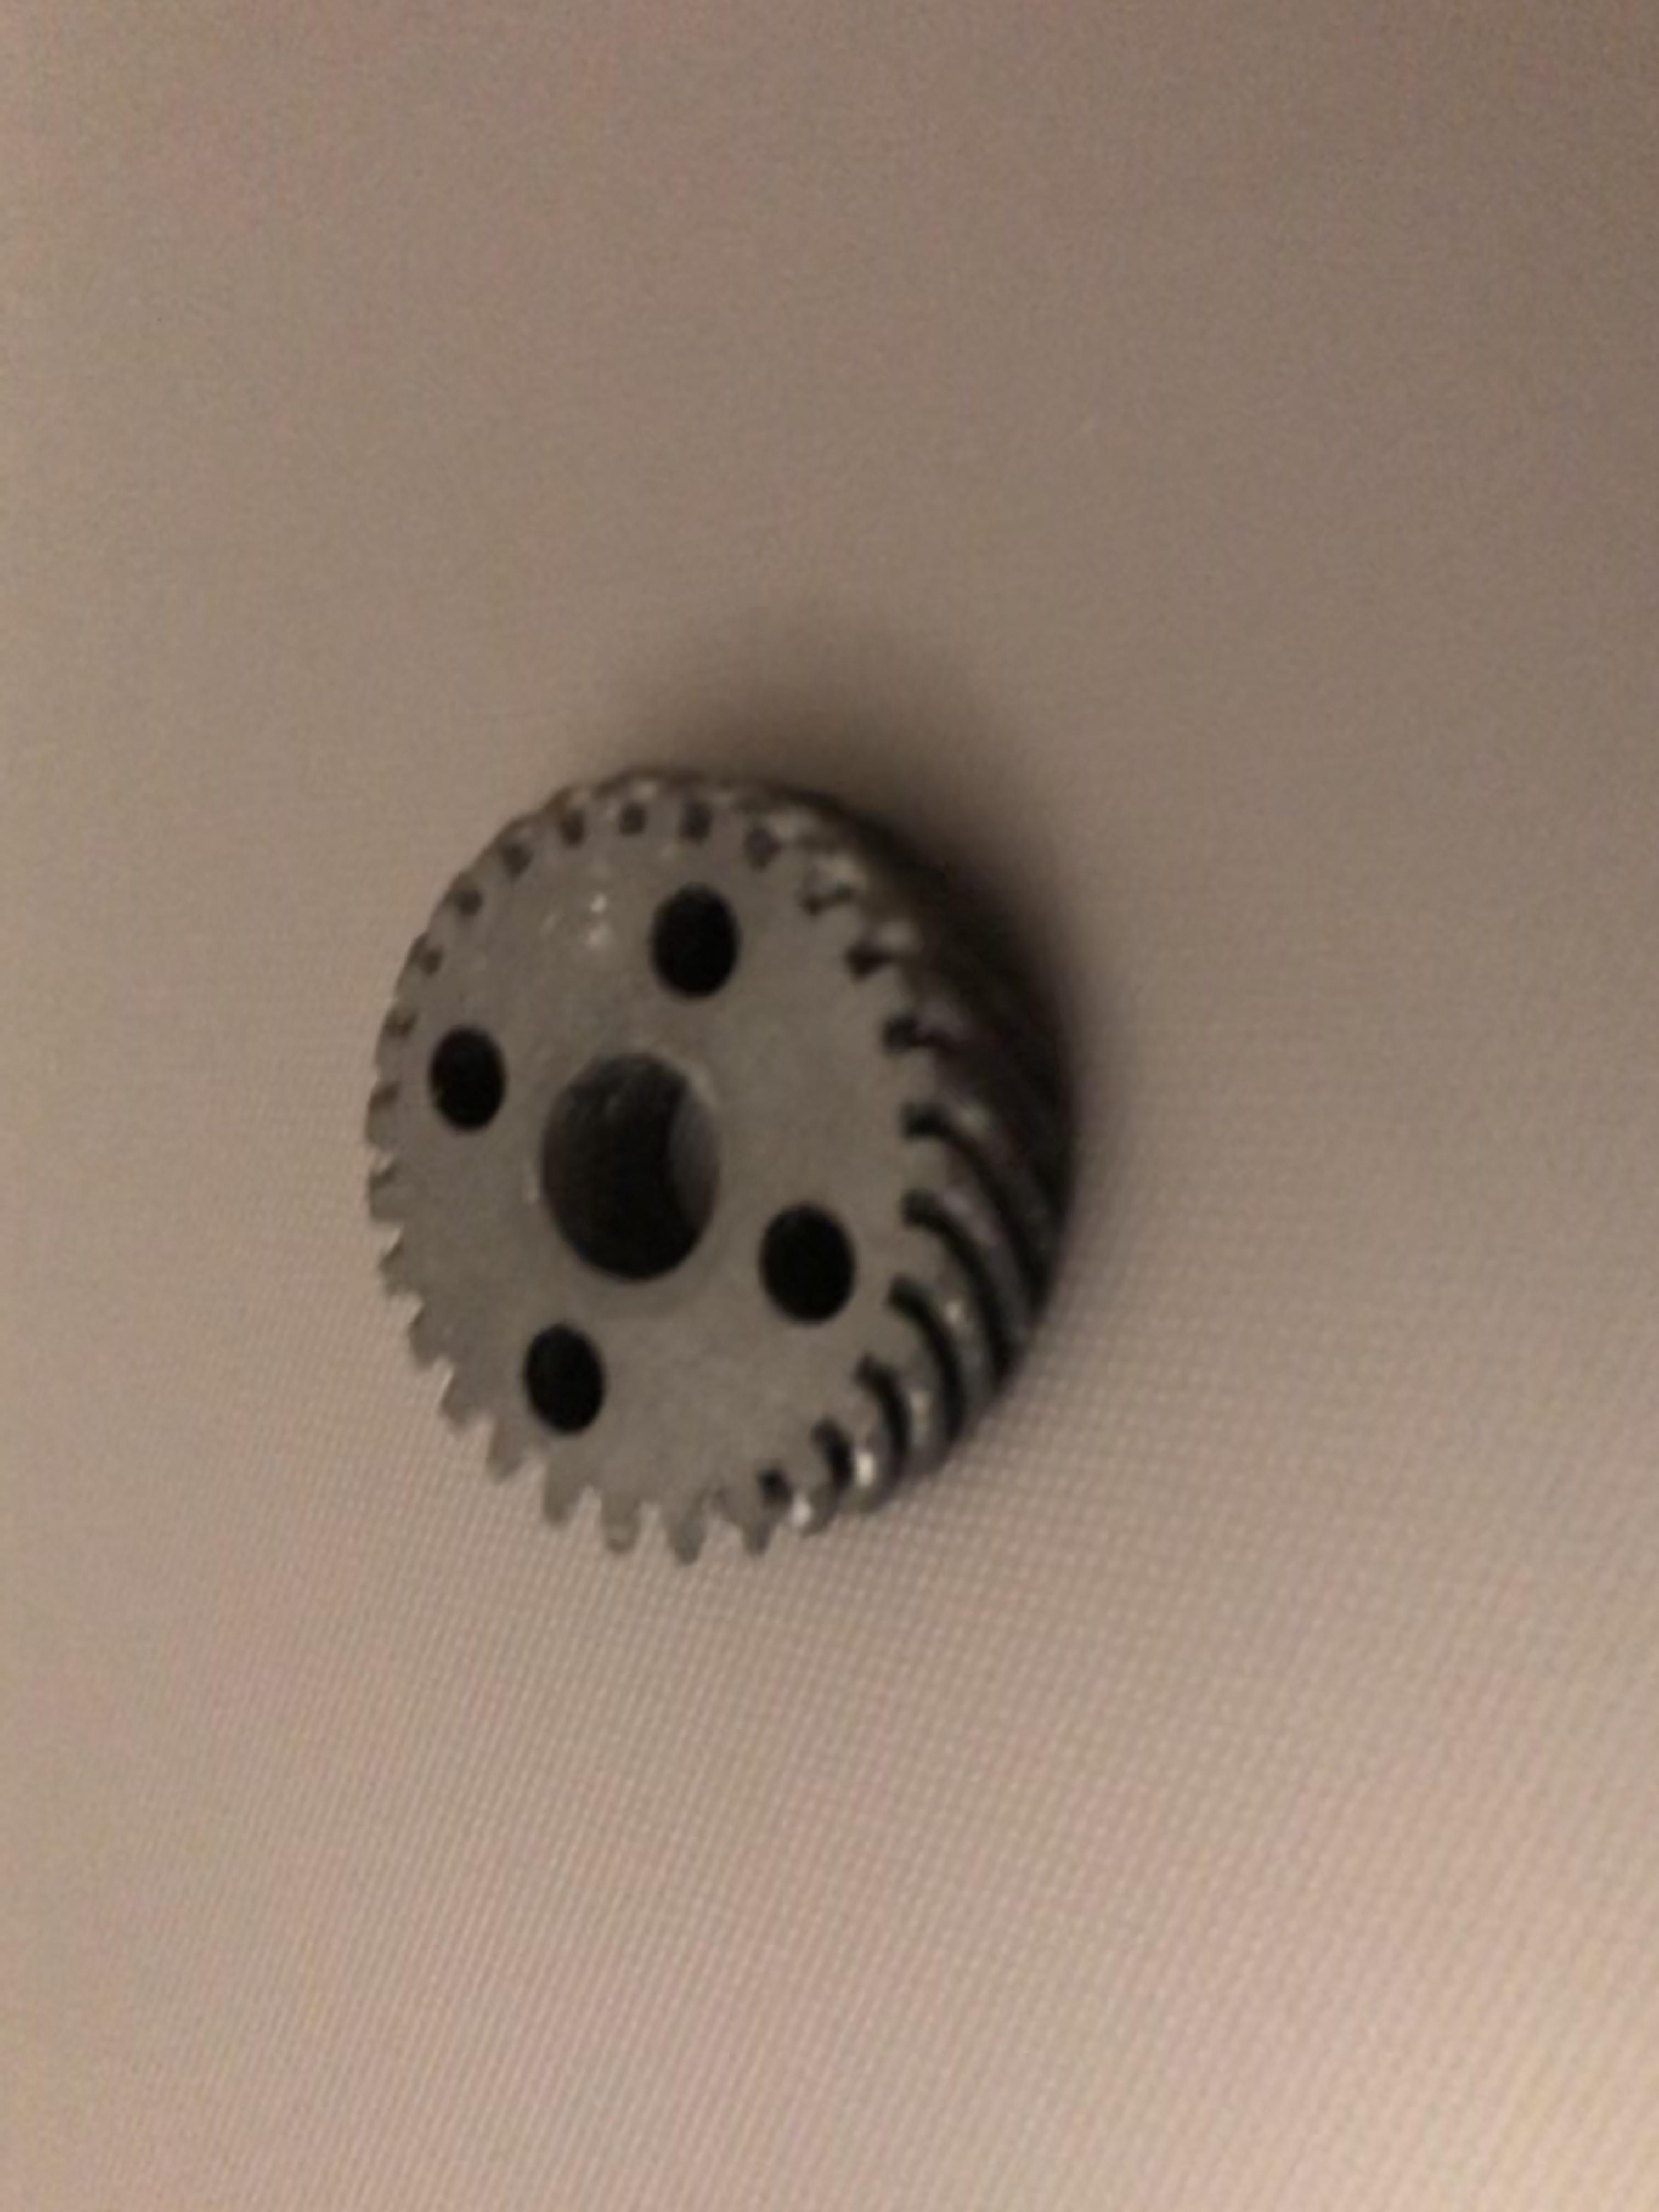Wheel: (343, 742, 1079, 1573)
